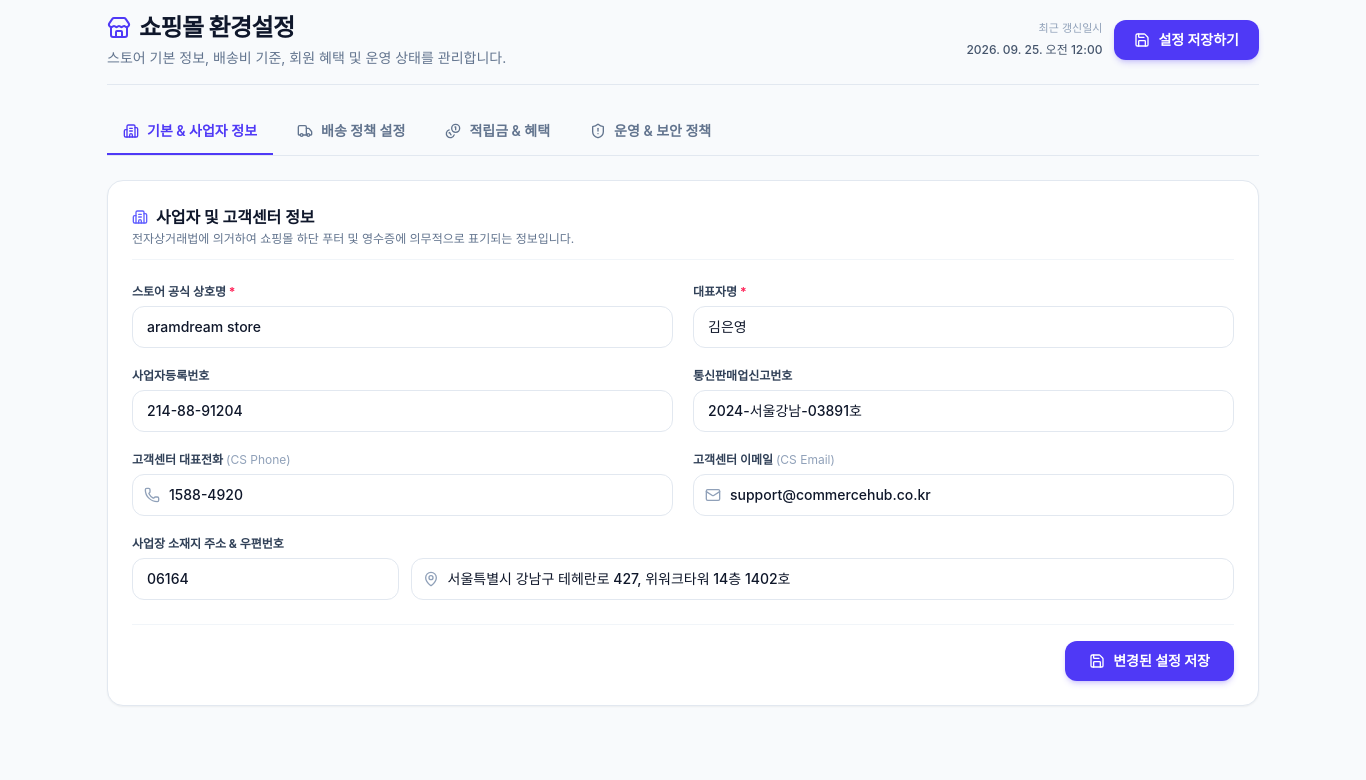
it: StoreSettingsViewer Component › 저장 실패 시 오류 피드백을 노출한다
Click the button "설정 저장하기".
click(1187, 40)  # box 1114,20 -> 1259,60
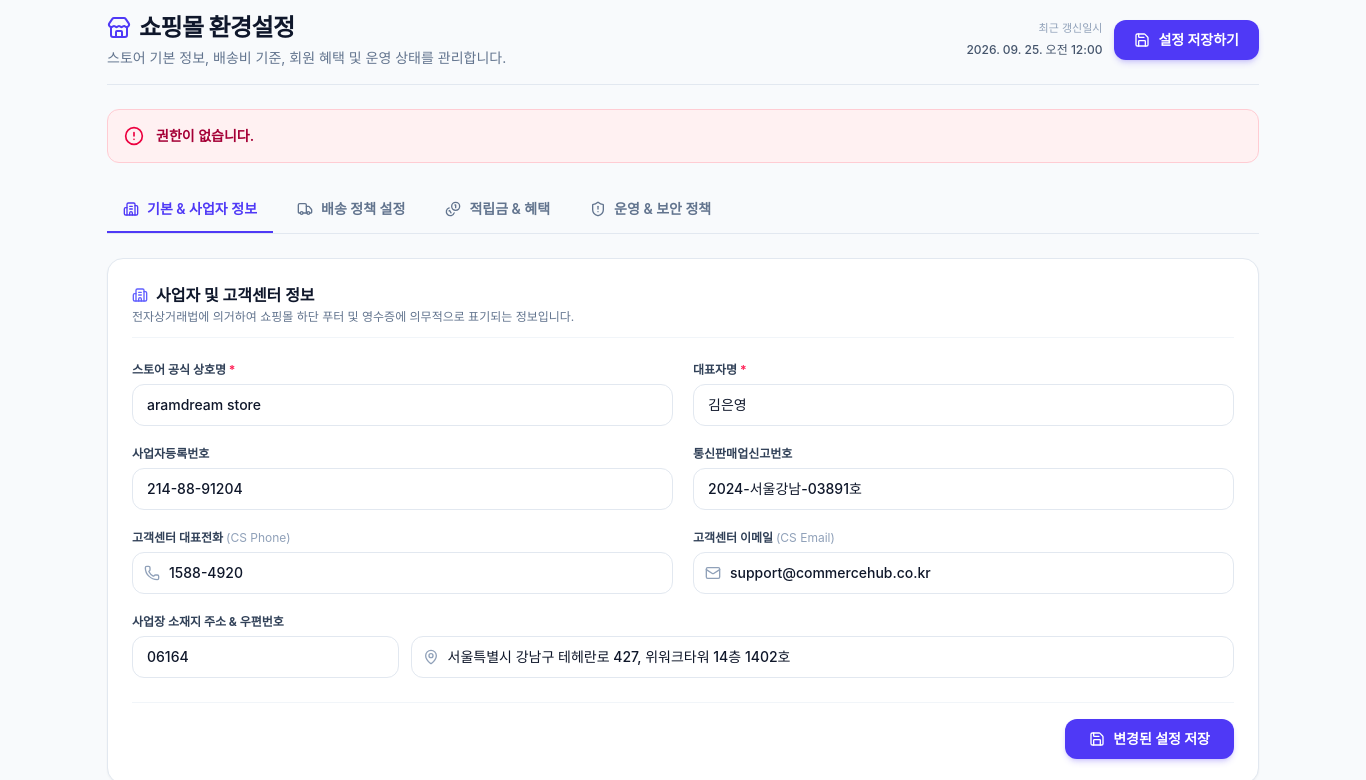
Now the text "권한이 없습니다." is shown, box 156,126 -> 254,146
